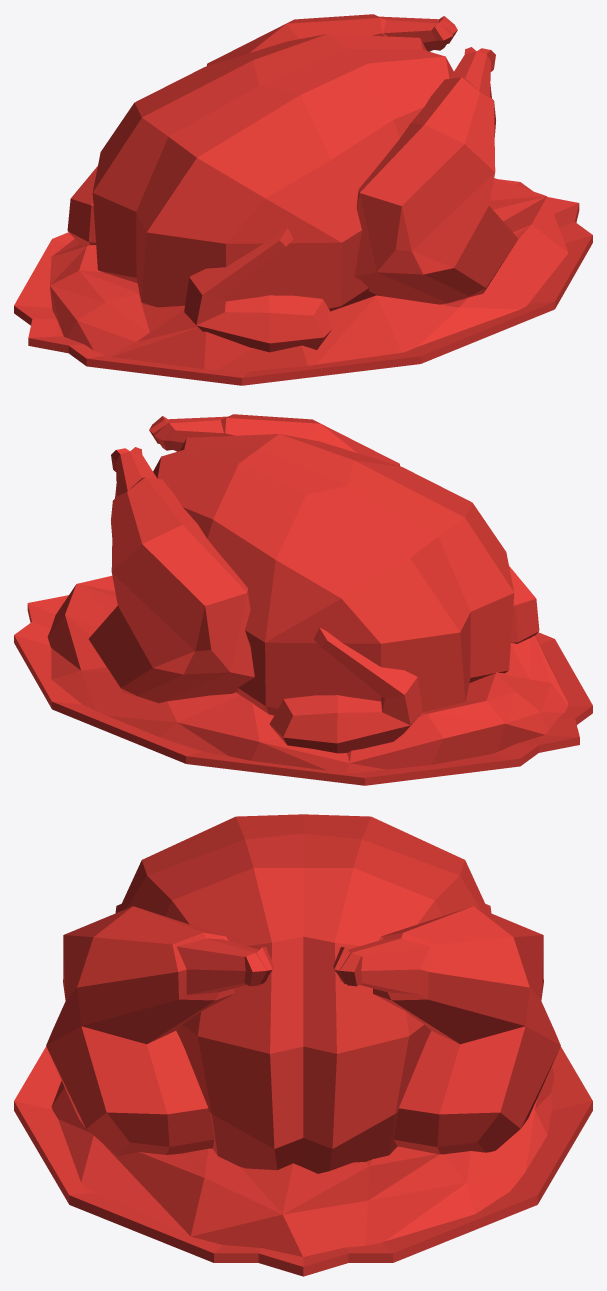
Rendered from SM_Turkey_Roasted.fbx.
3 renders of one model, top to bottom at view 1: azimuth 30°, elevation 25°; view 2: azimuth 150°, elevation 25°; view 3: azimuth 270°, elevation 25°, orthographic. The views are drawn at different scales.
Parts seen in each view (by area): view 1: turkey-roasted; view 2: turkey-roasted; view 3: turkey-roasted.
Boxes of the visible parts, <box> form: turkey-roasted: <box>14,14,592,385</box>; turkey-roasted: <box>14,414,592,785</box>; turkey-roasted: <box>14,814,592,1276</box>.
Bounding box in the file's own units: 0.6003 × 0.2448 × 0.4426.
